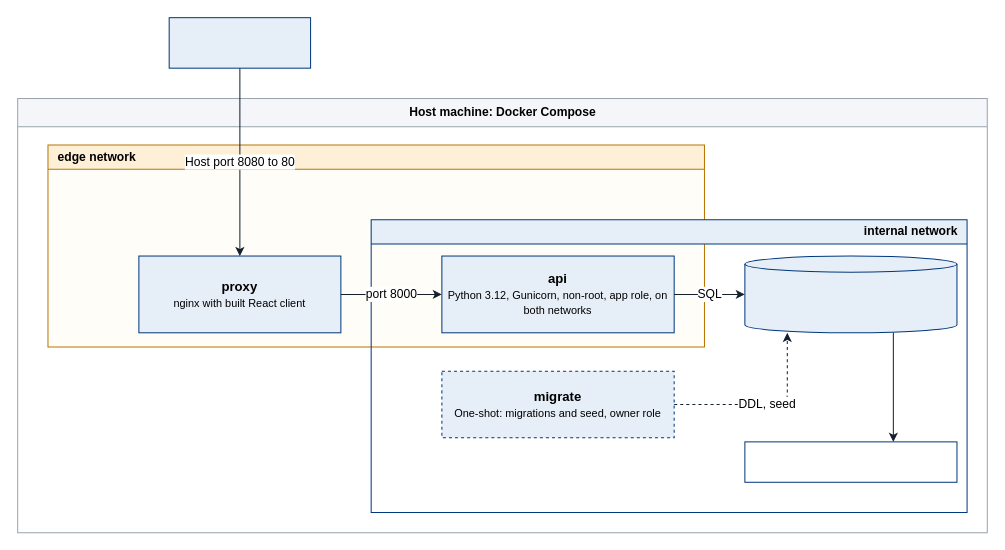
The diagram is 1005 pixels wide and 550 high, and some of its shapes have lost their labels. The centre of each missing label's shape, as x and y in pixels:
Browser: (x=239, y=42)
db PostgreSQL 16, no published port: (x=850, y=294)
Named volume db_data: (x=850, y=461)
